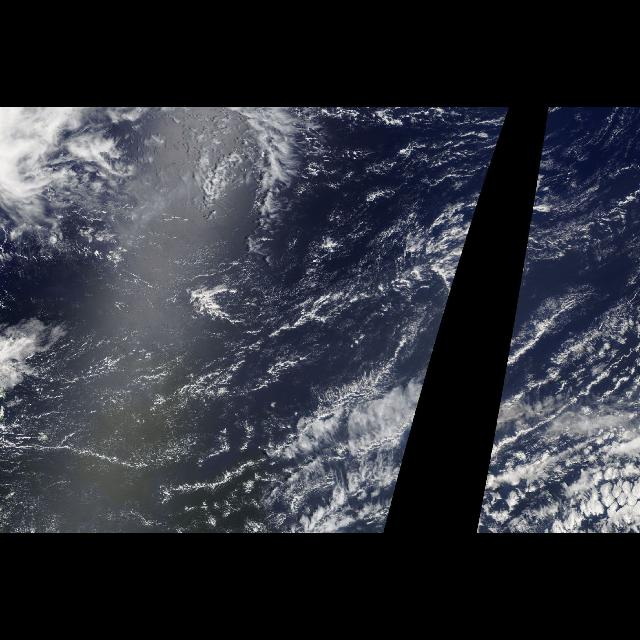Fish: (207, 218, 475, 394), (500, 218, 532, 394)
Sugar: (29, 111, 508, 517), (514, 111, 640, 363)
